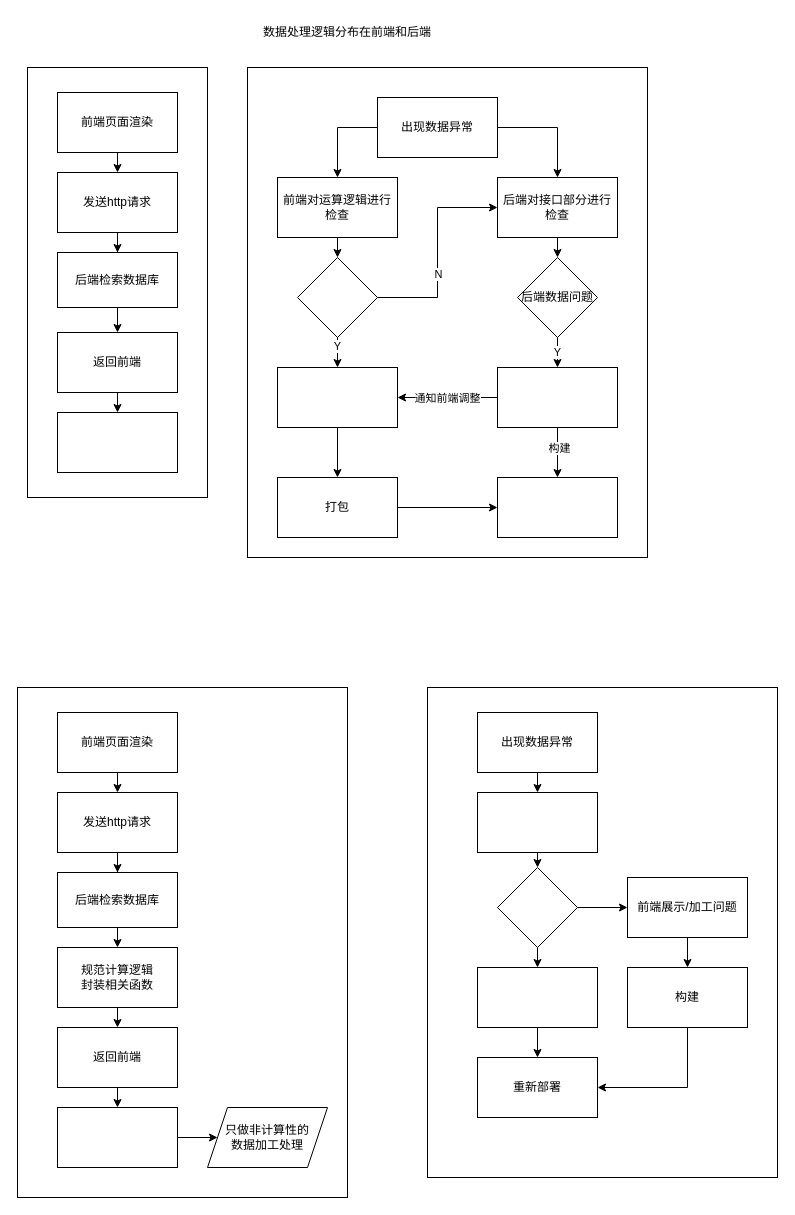
This 795x1215 diagram has some shape labels left out. The box of each missing label's shape, as (x1, y1, x2, y2) in pixels:
前端对字段调整，进行重新构建: (276, 366, 398, 428)
前端对数据进行拼接、二次运算: (56, 412, 178, 472)
前端问题: (296, 256, 378, 338)
后端修复计算逻辑: (476, 966, 598, 1028)
基于数据进行渲染 及交互: (56, 1106, 178, 1168)
是否正常: (496, 866, 578, 948)
确认接口返回数据: (476, 792, 598, 852)
调整接口: (496, 366, 618, 428)
部署: (496, 476, 618, 538)
